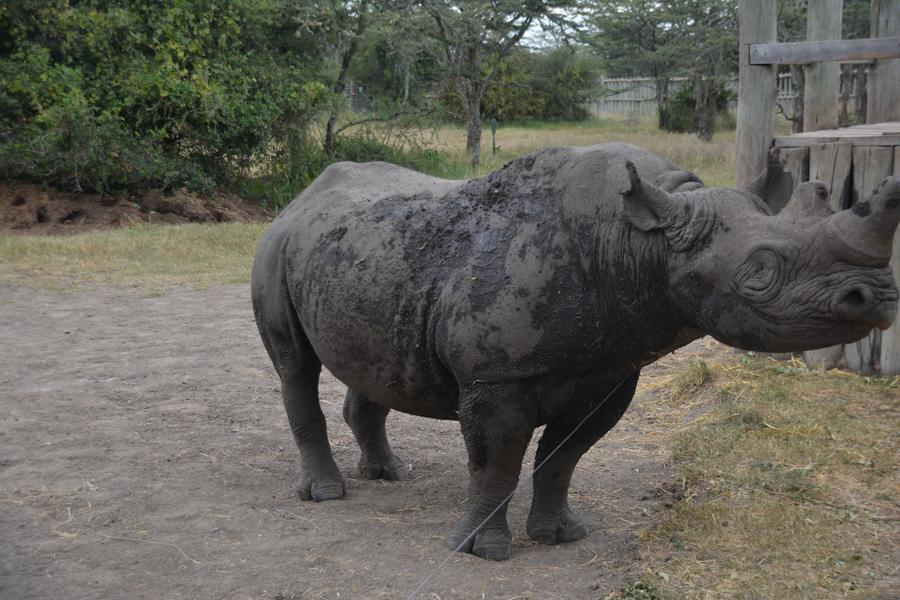rhino: (263, 144, 798, 481)
